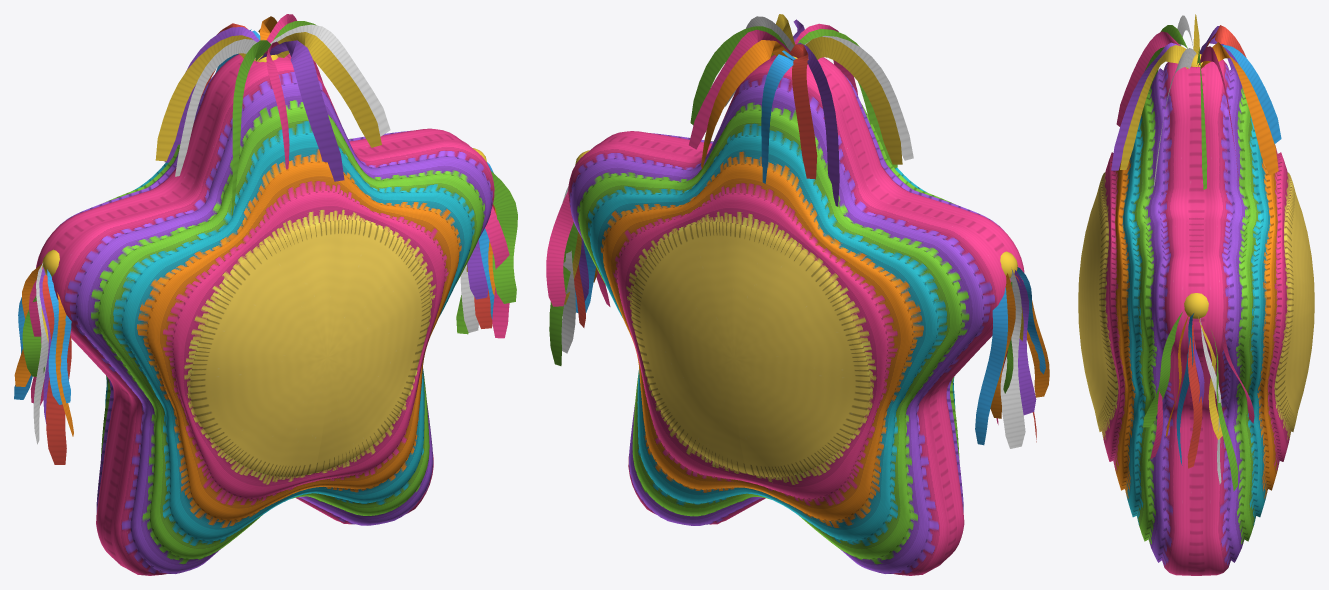
File: pinata.glb
3 views of the same model, side by side, from view 1: azimuth 30°, elevation 25°; view 2: azimuth 150°, elevation 25°; view 3: azimuth 270°, elevation 25° (orthographic). The views are drawn at different scales.
Visible parts, largest first — view 1: pinata; view 2: pinata; view 3: pinata.
Part boxes in pixels (left/top/right/bottom): pinata: left=14, top=14, right=517, bottom=575; pinata: left=546, top=14, right=1049, bottom=575; pinata: left=1078, top=14, right=1314, bottom=575.
Size of the model in its own units: 0.7108 by 0.7415 by 0.33.
Materials: 2 (2 with a texture image).
